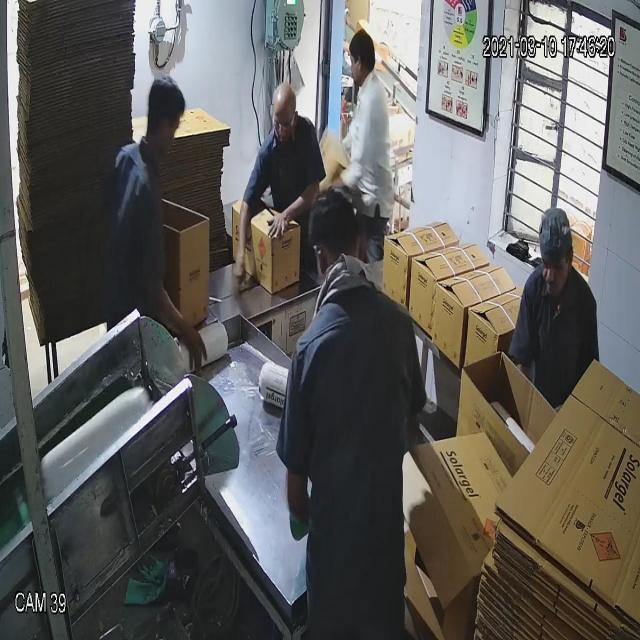No_Gloves: (26, 63, 293, 316)
